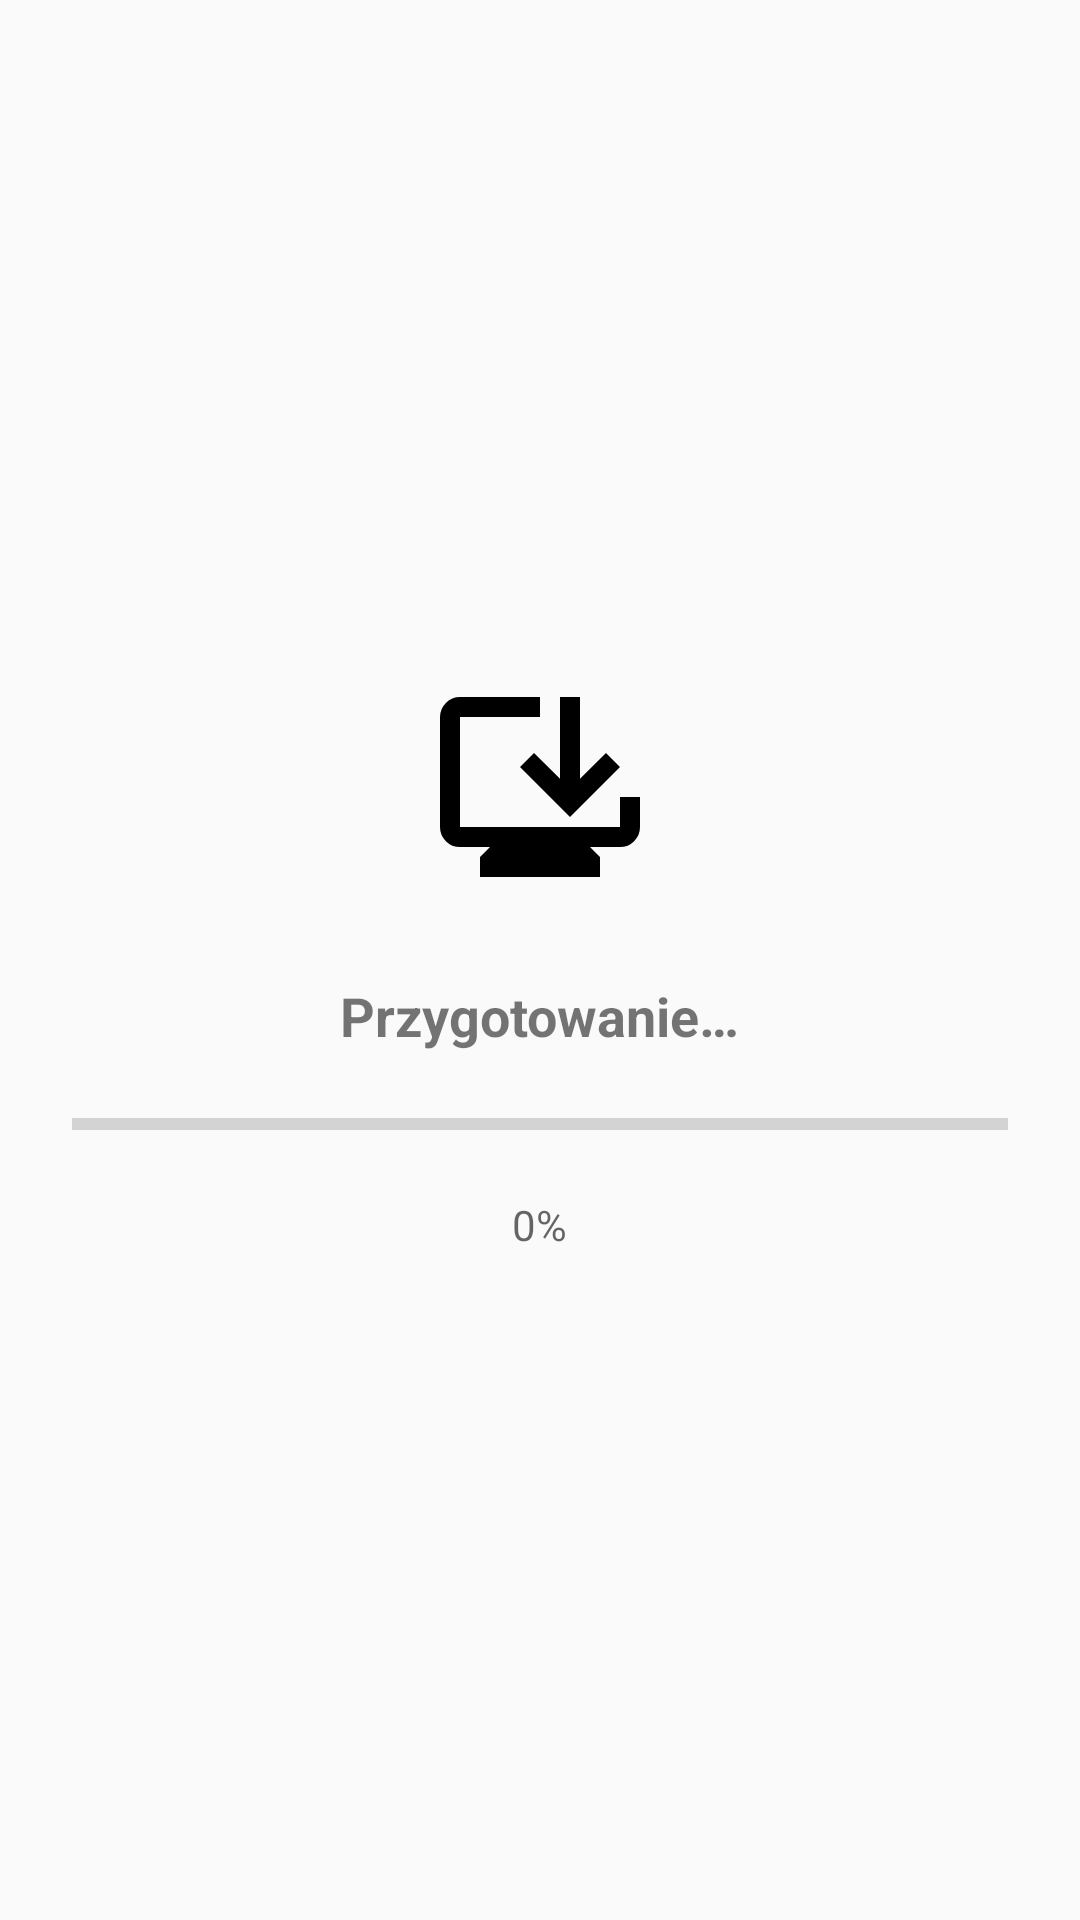

Icon click points for this 1080*1920 phone screenshot, format (x=x, y=y):
Dostępna Aktualizacja!: (x=540, y=787)
